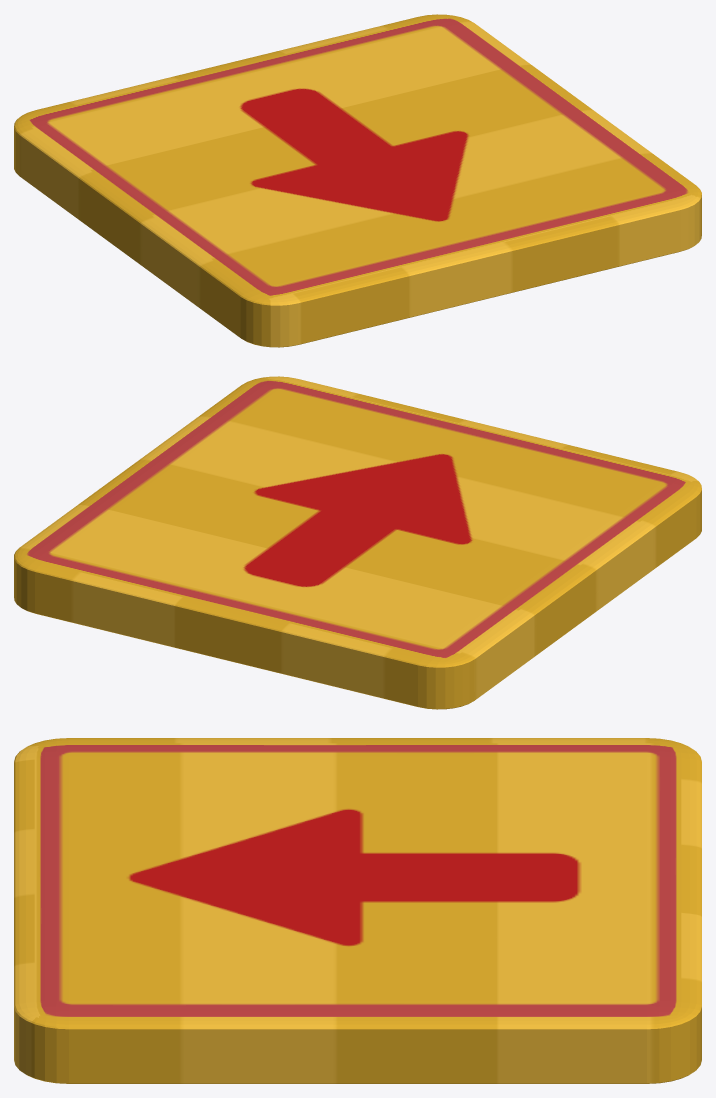
The model's file is JumpModel.fbx.
3 renders of one model, top to bottom at view 1: azimuth 30°, elevation 25°; view 2: azimuth 150°, elevation 25°; view 3: azimuth 270°, elevation 25°, orthographic. The views are drawn at different scales.
Parts seen in each view (by area): view 1: Cube; view 2: Cube; view 3: Cube.
Boxes of the visible parts, x1,y1,x2,y2 form: Cube: [14, 14, 701, 347]; Cube: [14, 376, 701, 709]; Cube: [14, 738, 701, 1083].
Size of the model in its own units: 247 by 25.53 by 247.
